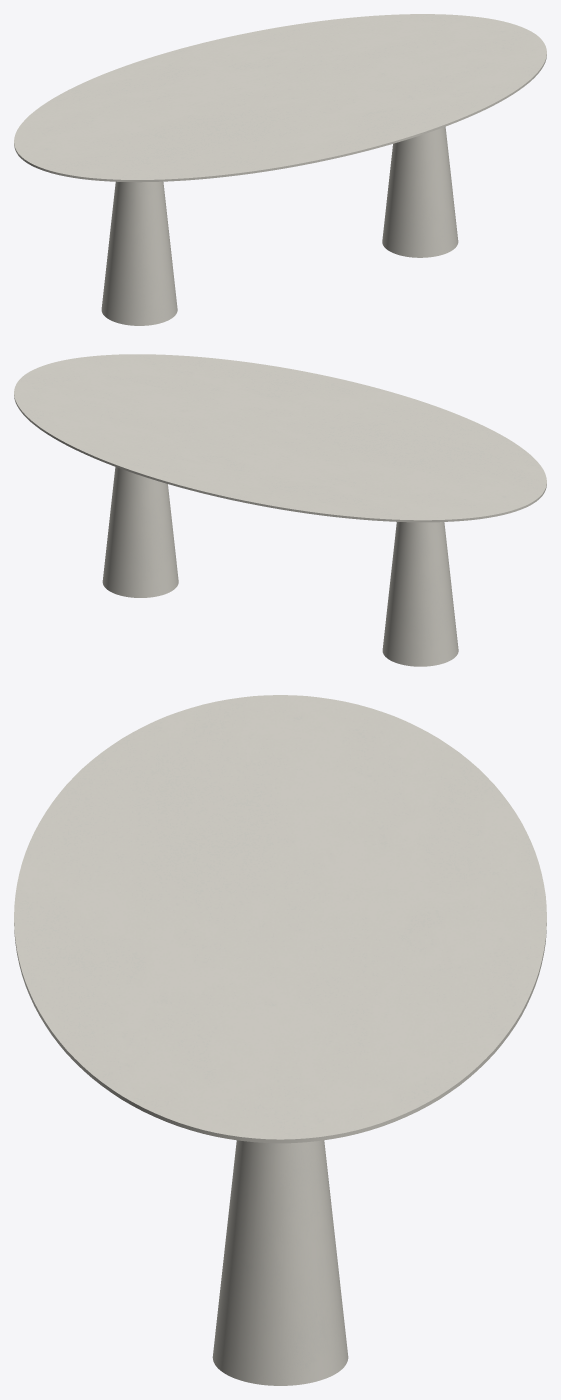
Rendered from pale_ellips_facet_pebble.glb.
3 views of the same model, one above another, from view 1: azimuth 30°, elevation 25°; view 2: azimuth 150°, elevation 25°; view 3: azimuth 270°, elevation 25° (orthographic). The views are drawn at different scales.
Visible parts, largest first — view 1: facet_ellips, pebble; view 2: facet_ellips, pebble; view 3: facet_ellips, pebble.
Part boxes in pixels (x1,y1,x2,y2): facet_ellips: (14, 14, 546, 182); pebble: (101, 126, 458, 325); facet_ellips: (14, 354, 546, 522); pebble: (102, 467, 458, 666); facet_ellips: (14, 695, 546, 1143); pebble: (212, 1140, 348, 1385).
Bounding box in the file's own units: 7.5 × 2.51 × 3.8.
Materials: 1 (1 with a texture image).
